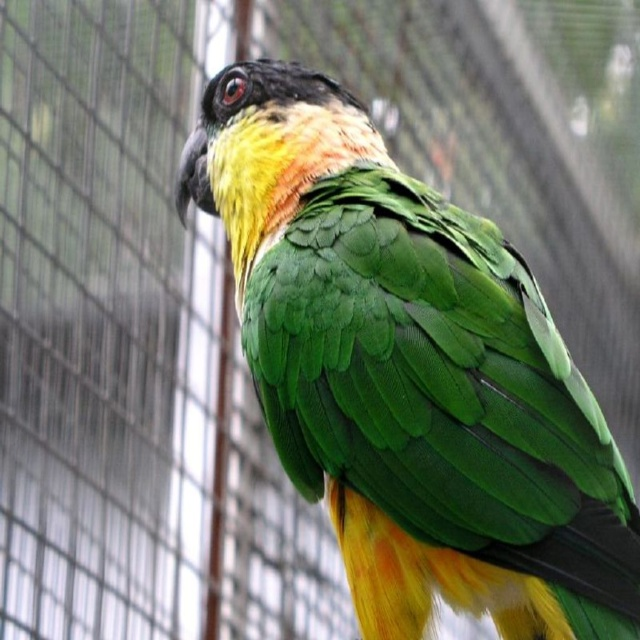Parrot: (174, 55, 639, 639)
